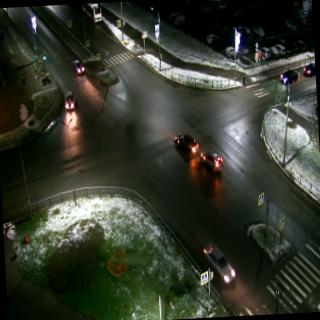large-vehicle: (78, 3, 104, 26)
small-vehicle: (204, 240, 236, 286), (173, 132, 198, 156), (199, 152, 224, 174), (280, 68, 300, 88), (65, 90, 78, 114), (302, 62, 316, 80), (72, 60, 85, 78), (252, 24, 265, 40), (208, 31, 220, 48), (272, 44, 286, 58), (226, 46, 238, 62), (258, 46, 270, 61), (286, 21, 298, 34)
